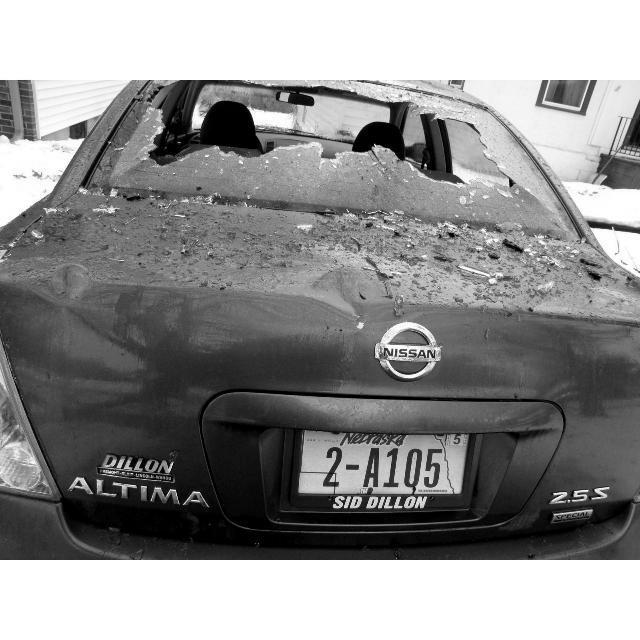Rear-windscreen-Damage: (96, 81, 630, 250)
rear-bumper-dent: (1, 252, 640, 550)
